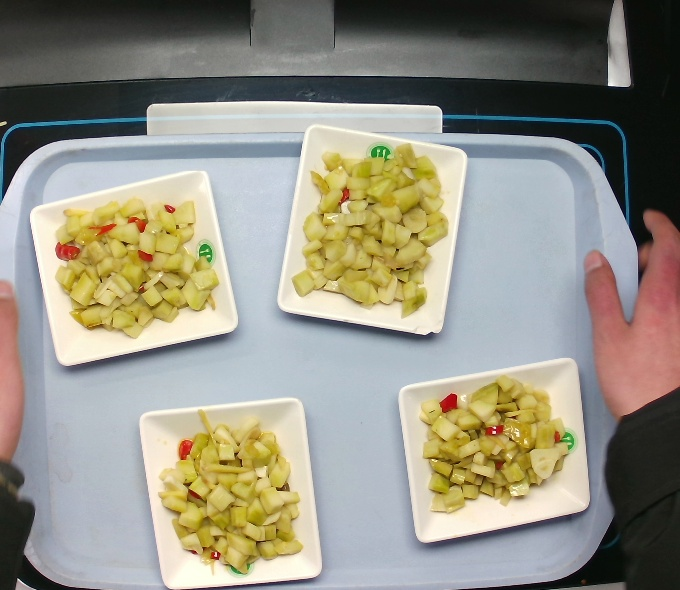wcq-YanHuaCaiGeng: (285, 137, 453, 323), (154, 403, 308, 587), (48, 189, 221, 344), (415, 371, 578, 520)
